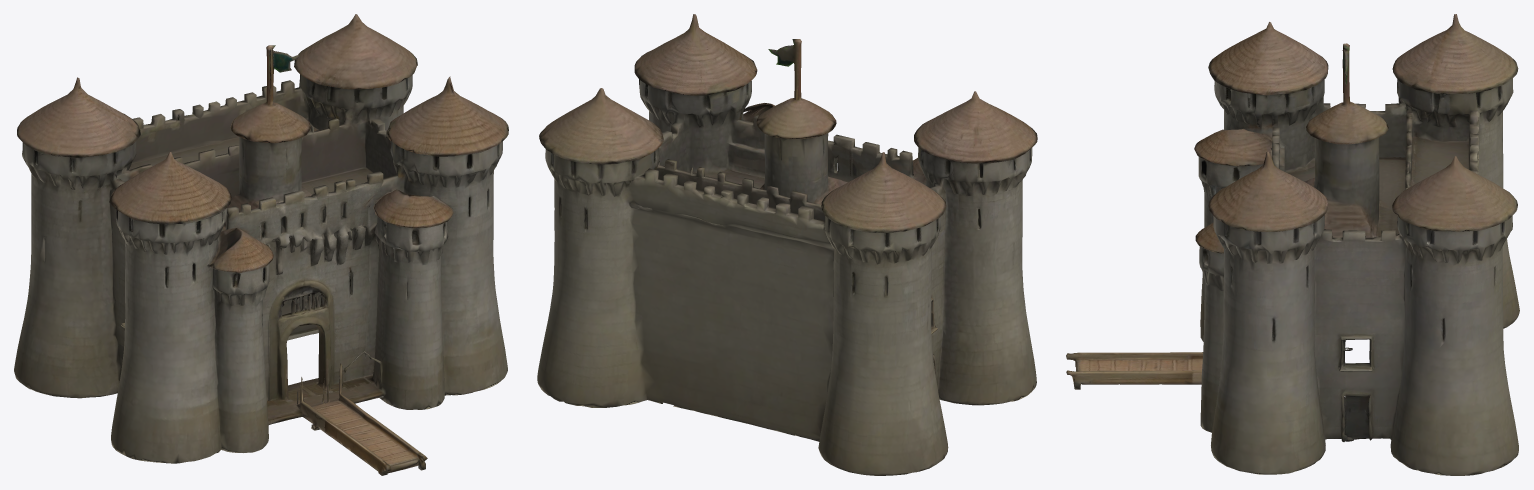
File: poi_castle.glb
The picture shows the model from 3 angles, left to right: view 1: azimuth 30°, elevation 25°; view 2: azimuth 150°, elevation 25°; view 3: azimuth 270°, elevation 25°; orthographic projection.
Visible parts, largest first — view 1: Castle; view 2: Castle; view 3: Castle.
Part boxes in pixels (left/top/right/bottom): Castle: left=14, top=14, right=508, bottom=475; Castle: left=537, top=14, right=1037, bottom=475; Castle: left=1066, top=14, right=1519, bottom=475.
Size of the model in its own units: 1.84 by 1.51 by 1.84.
1 material, 1 textured.
